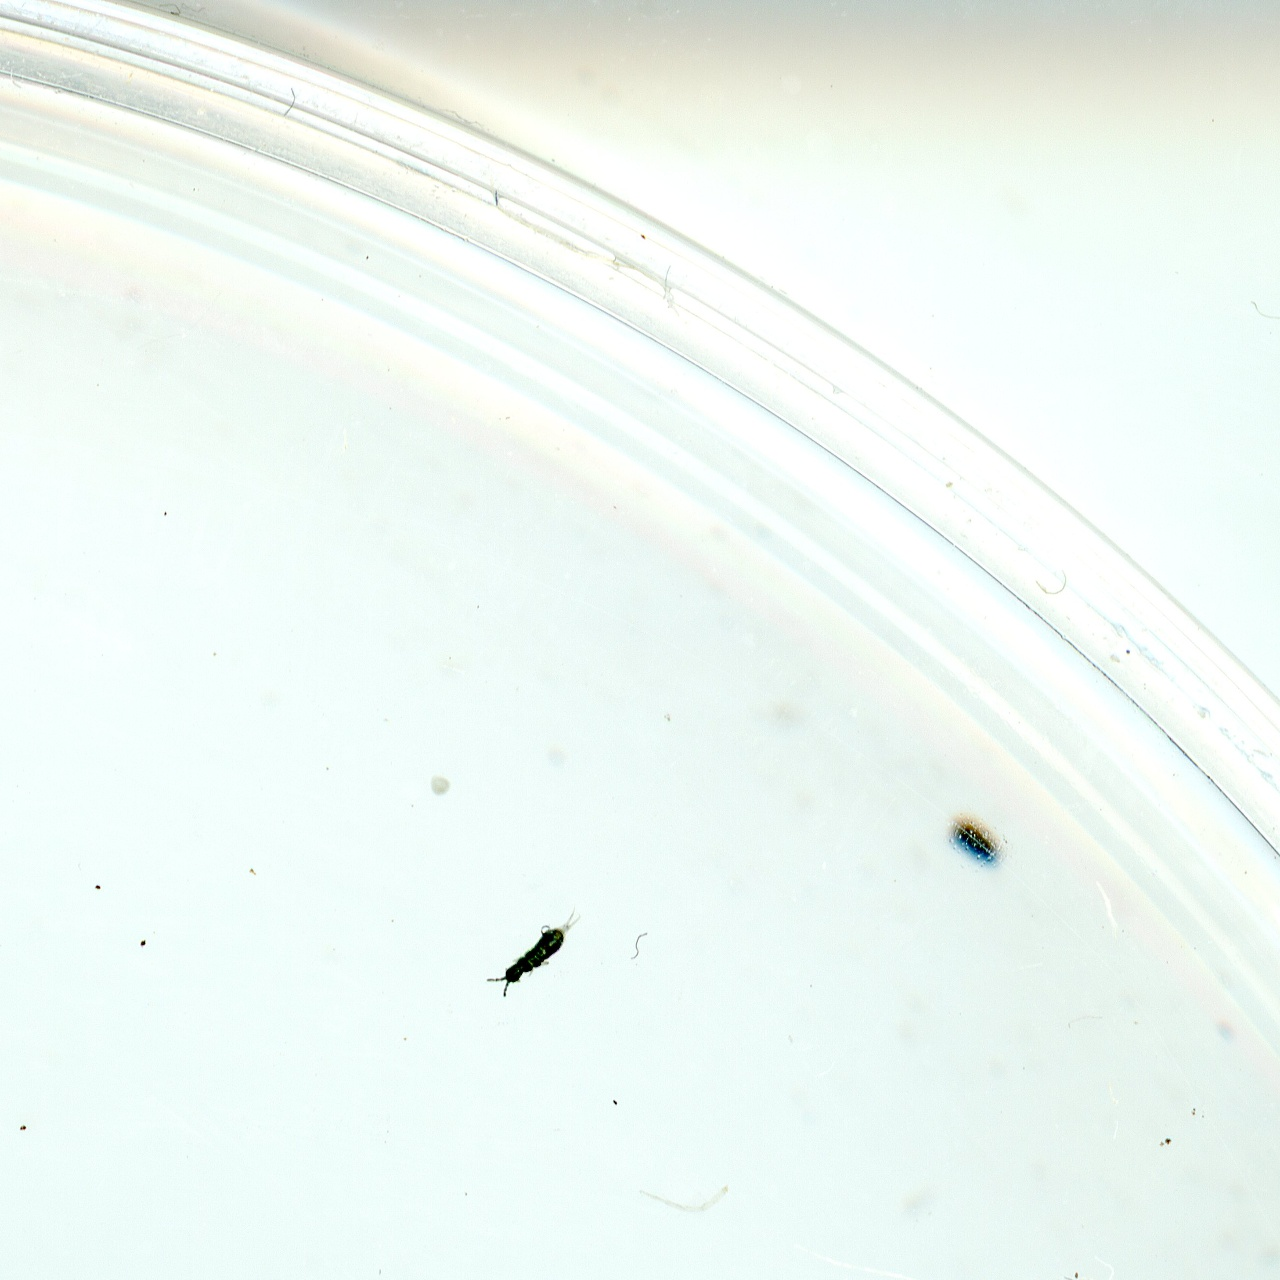arthropod: (476, 885, 593, 1014)
